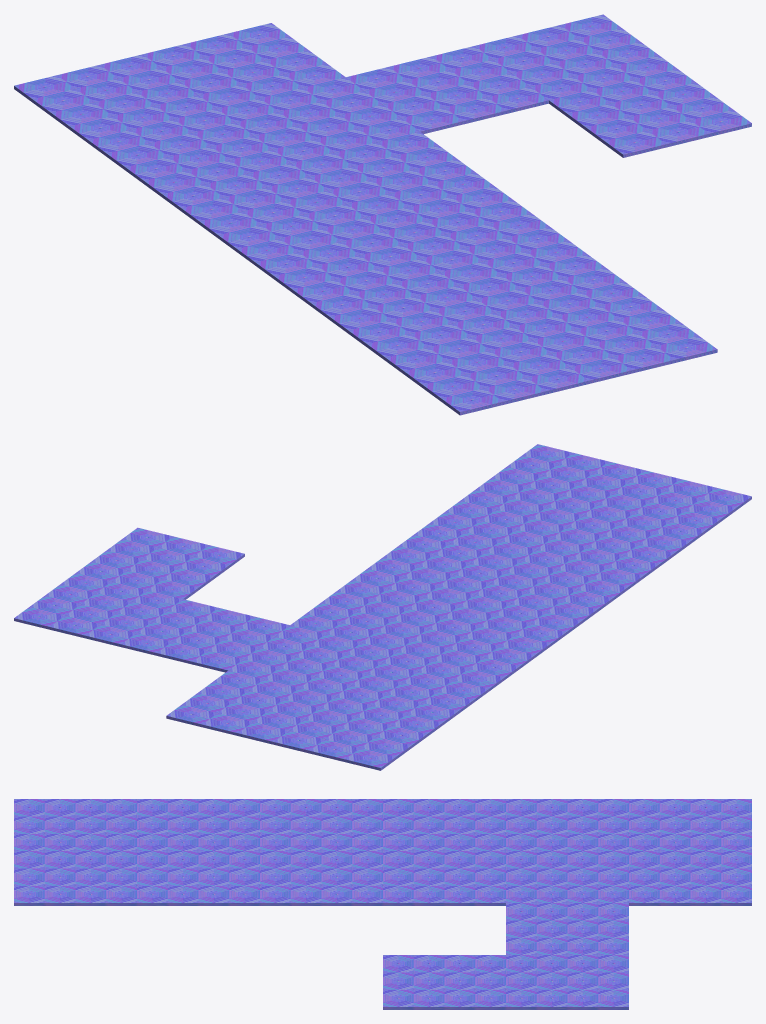
File: MuseumFloor_Floor.fbx
3 views of the same model, one above another, from view 1: azimuth 30°, elevation 25°; view 2: azimuth 150°, elevation 25°; view 3: azimuth 270°, elevation 25° (orthographic). The views are drawn at different scales.
Parts seen in each view (by area): view 1: Floor_2x2__24_, Floor_2x2__27_, Floor_2x2__37_, Floor_2x2__42_, Floor_2x2__28_, Floor_2x2__30_, Floor_2x2__25_, Floor_2x2__26_, Floor_2x2__34_, Floor_2x2__36_, Floor_2x2__41_, Floor_2x2__39_ (+3 smaller); view 2: Floor_2x2__34_, Floor_2x2__33_, Floor_2x2__29_, Floor_2x2__42_, Floor_2x2__28_, Floor_2x2__30_, Floor_2x2__26_, Floor_2x2__24_, Floor_2x2__25_, Floor_2x2__27_, Floor_2x2__36_, Floor_2x2__38_ (+3 smaller); view 3: Floor_2x2__37_, Floor_2x2__36_, Floor_2x2__41_, Floor_2x2__38_, Floor_2x2__33_, Floor_2x2__29_, Floor_2x2__27_, Floor_2x2__24_, Floor_2x2__25_, Floor_2x2__26_, Floor_2x2__28_, Floor_2x2__30_ (+3 smaller).
Part boxes in pixels (x1,y1,x2,y2): Floor_2x2__24_: (385, 326, 588, 415); Floor_2x2__27_: (549, 69, 751, 157); Floor_2x2__37_: (515, 295, 717, 383); Floor_2x2__42_: (346, 46, 548, 133); Floor_2x2__28_: (162, 163, 365, 251); Floor_2x2__30_: (88, 109, 290, 197); Floor_2x2__25_: (311, 272, 513, 360); Floor_2x2__26_: (237, 217, 439, 306); Floor_2x2__34_: (14, 54, 216, 142); Floor_2x2__36_: (440, 240, 642, 326); Floor_2x2__41_: (366, 186, 568, 271); Floor_2x2__39_: (217, 77, 419, 162); Floor_2x2__34_: (273, 696, 442, 770); Floor_2x2__33_: (166, 670, 334, 744); Floor_2x2__29_: (14, 573, 182, 646); Floor_2x2__42_: (121, 599, 289, 672); Floor_2x2__28_: (397, 606, 566, 679); Floor_2x2__30_: (336, 651, 504, 724); Floor_2x2__26_: (460, 561, 628, 634); Floor_2x2__24_: (583, 470, 751, 544); Floor_2x2__25_: (521, 515, 689, 589); Floor_2x2__27_: (76, 527, 244, 599); Floor_2x2__36_: (414, 489, 582, 560); Floor_2x2__38_: (290, 580, 458, 651); Floor_2x2__37_: (14, 851, 136, 905); Floor_2x2__36_: (137, 851, 259, 905); Floor_2x2__41_: (260, 851, 382, 905); Floor_2x2__38_: (383, 851, 505, 905); Floor_2x2__33_: (629, 851, 751, 905); Floor_2x2__29_: (506, 955, 628, 1009); Floor_2x2__27_: (383, 955, 505, 1009); Floor_2x2__24_: (14, 799, 136, 850); Floor_2x2__25_: (137, 799, 259, 850); Floor_2x2__26_: (260, 799, 382, 850); Floor_2x2__28_: (383, 799, 505, 850); Floor_2x2__30_: (506, 799, 628, 850).
Size of the model in its own units: 800 by 5 by 1200.
Materials: 1 (1 with a texture image).
